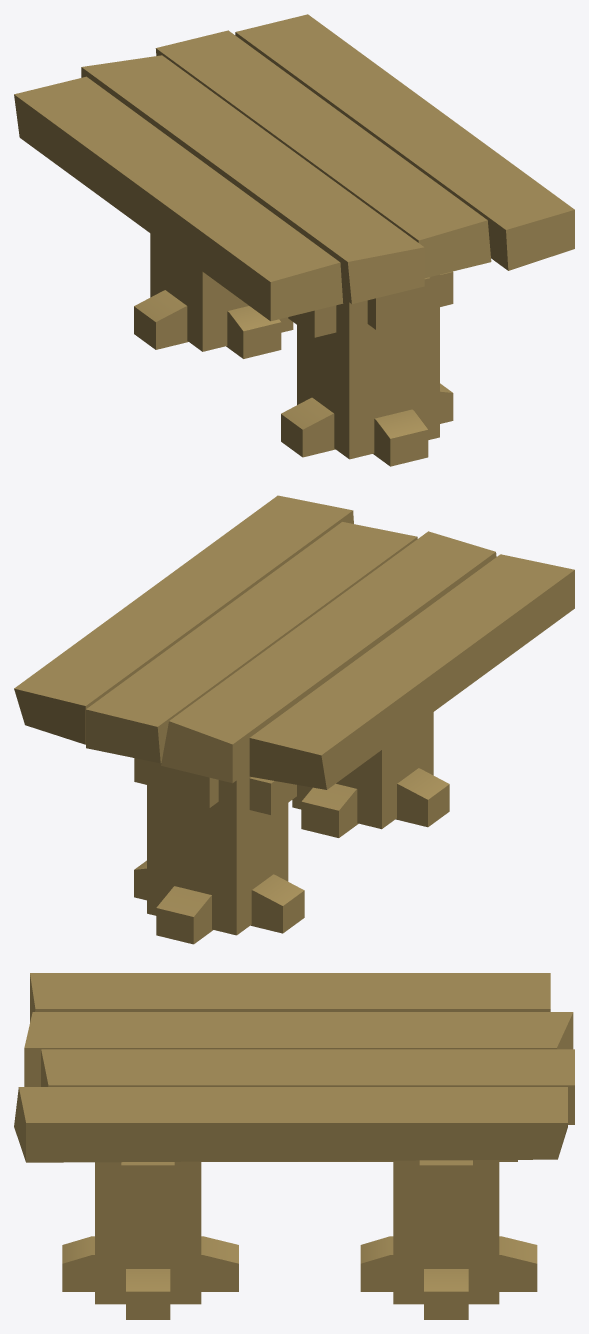
File: Table_v1_001.fbx
3 views of the same model, one above another, from view 1: azimuth 30°, elevation 25°; view 2: azimuth 150°, elevation 25°; view 3: azimuth 270°, elevation 25° (orthographic). The views are drawn at different scales.
Visible parts, largest first — view 1: Table_v1_001; view 2: Table_v1_001; view 3: Table_v1_001.
Part boxes in pixels (x1=…): Table_v1_001: x1=14, y1=14, x2=574, y2=466; Table_v1_001: x1=14, y1=495, x2=574, y2=944; Table_v1_001: x1=14, y1=973, x2=574, y2=1319.
Size of the model in its own units: 93.63 by 67.84 by 148.
